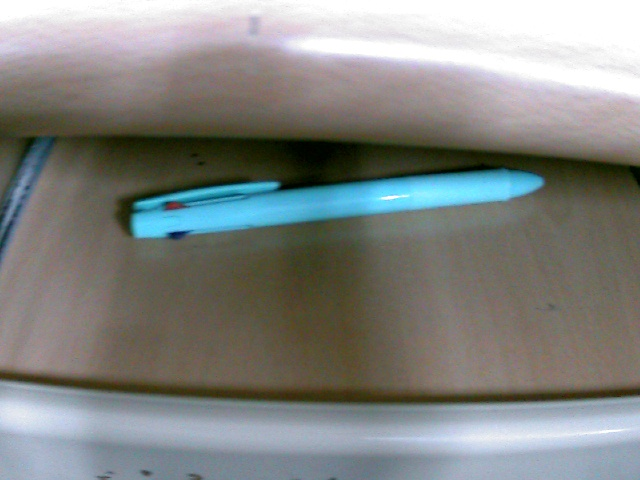pen: (70, 95, 580, 285)
